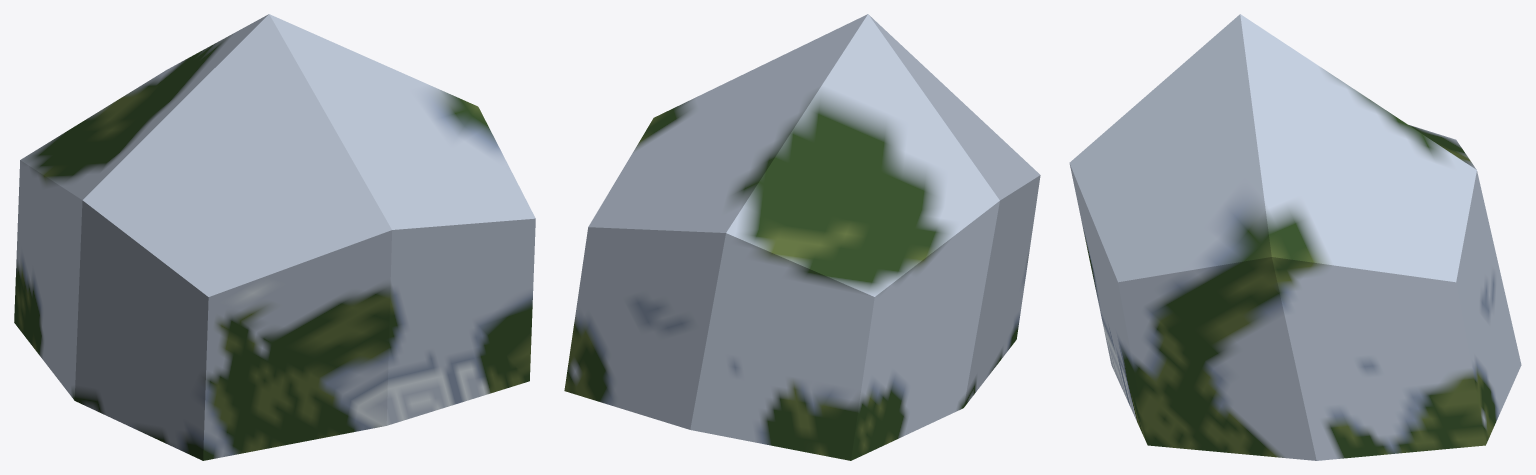
Rendered from Pedra1.fbx.
The picture shows the model from 3 angles, left to right: view 1: azimuth 30°, elevation 25°; view 2: azimuth 150°, elevation 25°; view 3: azimuth 270°, elevation 25°; orthographic projection. The views are drawn at different scales.
Visible parts, largest first — view 1: Pedra1; view 2: Pedra1; view 3: Pedra1.
Boxes of the visible parts, box(x1,y1,x2,y2) form: Pedra1: box(14, 14, 535, 460); Pedra1: box(564, 14, 1040, 460); Pedra1: box(1069, 14, 1521, 460).
Bounding box in the file's own units: 68.25 × 72.61 × 60.41.
